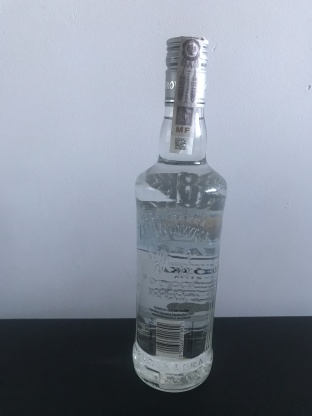nakretka: (162, 32, 210, 112)
